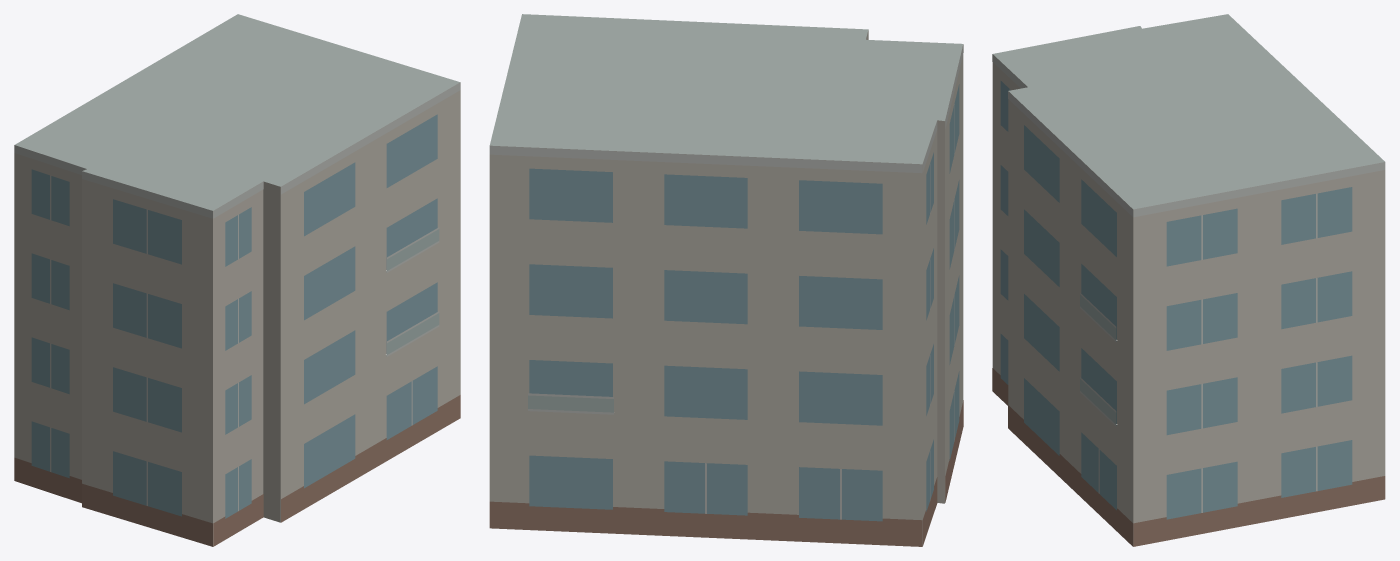
The model's file is survey-upis-32925514.glb.
3 renders of one model, left to right at view 1: azimuth 30°, elevation 25°; view 2: azimuth 150°, elevation 25°; view 3: azimuth 270°, elevation 25°, orthographic. The views are drawn at different scales.
Parts seen in each view (by area): view 1: survey-upis-32925514.tmp; view 2: survey-upis-32925514.tmp; view 3: survey-upis-32925514.tmp.
Boxes of the visible parts, box(x1,y1,x2,y2) form: survey-upis-32925514.tmp: box(14, 14, 460, 546); survey-upis-32925514.tmp: box(489, 14, 963, 546); survey-upis-32925514.tmp: box(992, 14, 1385, 546).
Size of the model in its own units: 12.93 by 10.4 by 10.99.
